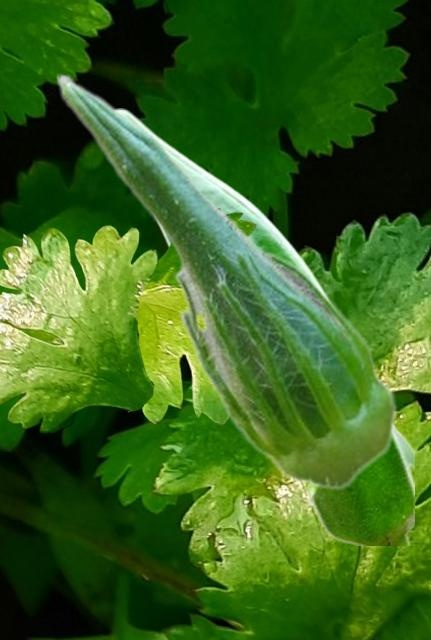okra: (55, 72, 397, 489), (119, 108, 413, 544)
